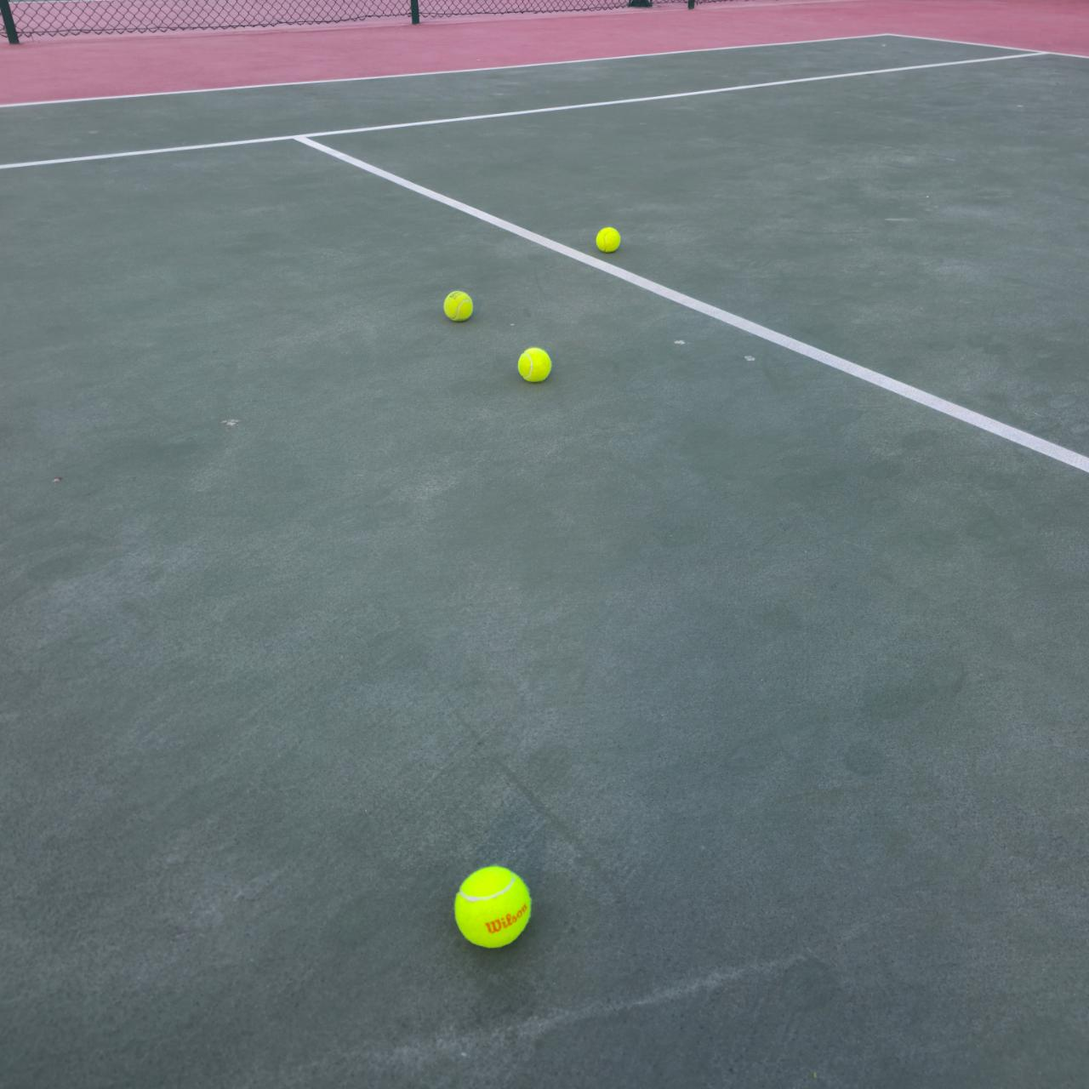tennis-ball: (452, 862, 533, 949), (516, 344, 552, 383), (442, 287, 474, 322), (593, 224, 620, 253)
